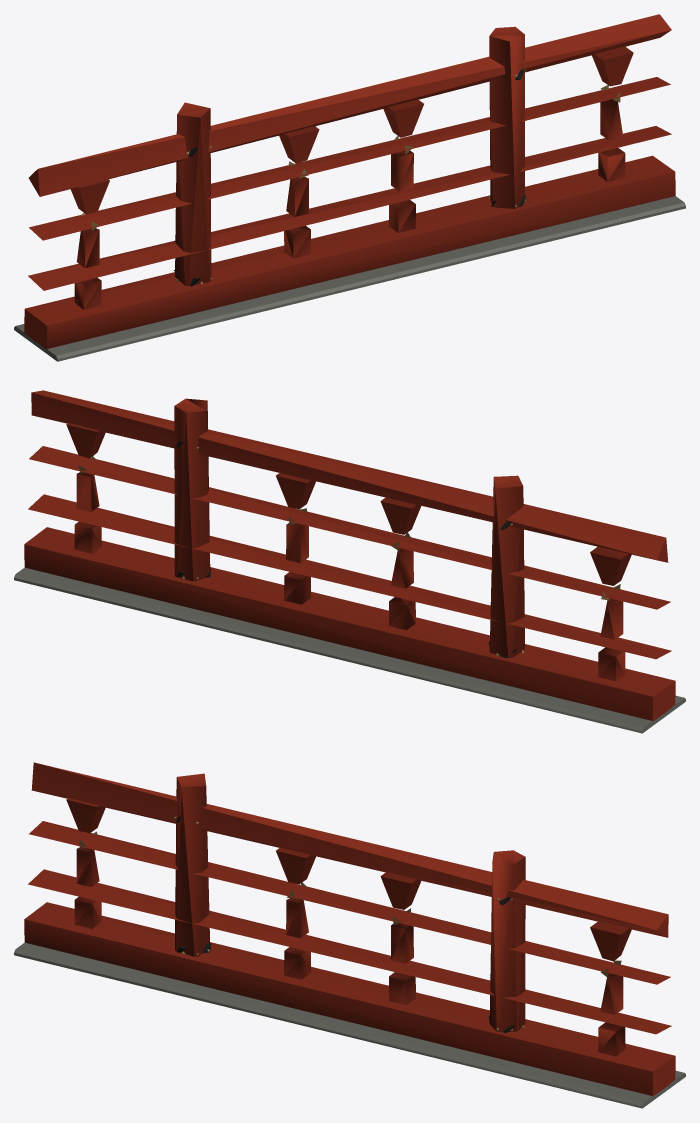
Rendered from SM_RedBridge_Parapet.glb.
3 renders of one model, top to bottom at view 1: azimuth 30°, elevation 25°; view 2: azimuth 150°, elevation 25°; view 3: azimuth 330°, elevation 25°, orthographic.
Visible parts, largest first — view 1: SM_RedBridge_Parapet; view 2: SM_RedBridge_Parapet; view 3: SM_RedBridge_Parapet.
Boxes of the visible parts, x1,y1,x2,y2 form: SM_RedBridge_Parapet: [14, 14, 685, 361]; SM_RedBridge_Parapet: [14, 390, 685, 733]; SM_RedBridge_Parapet: [14, 762, 685, 1108].
Size of the model in its own units: 4 by 1.2 by 0.48.
